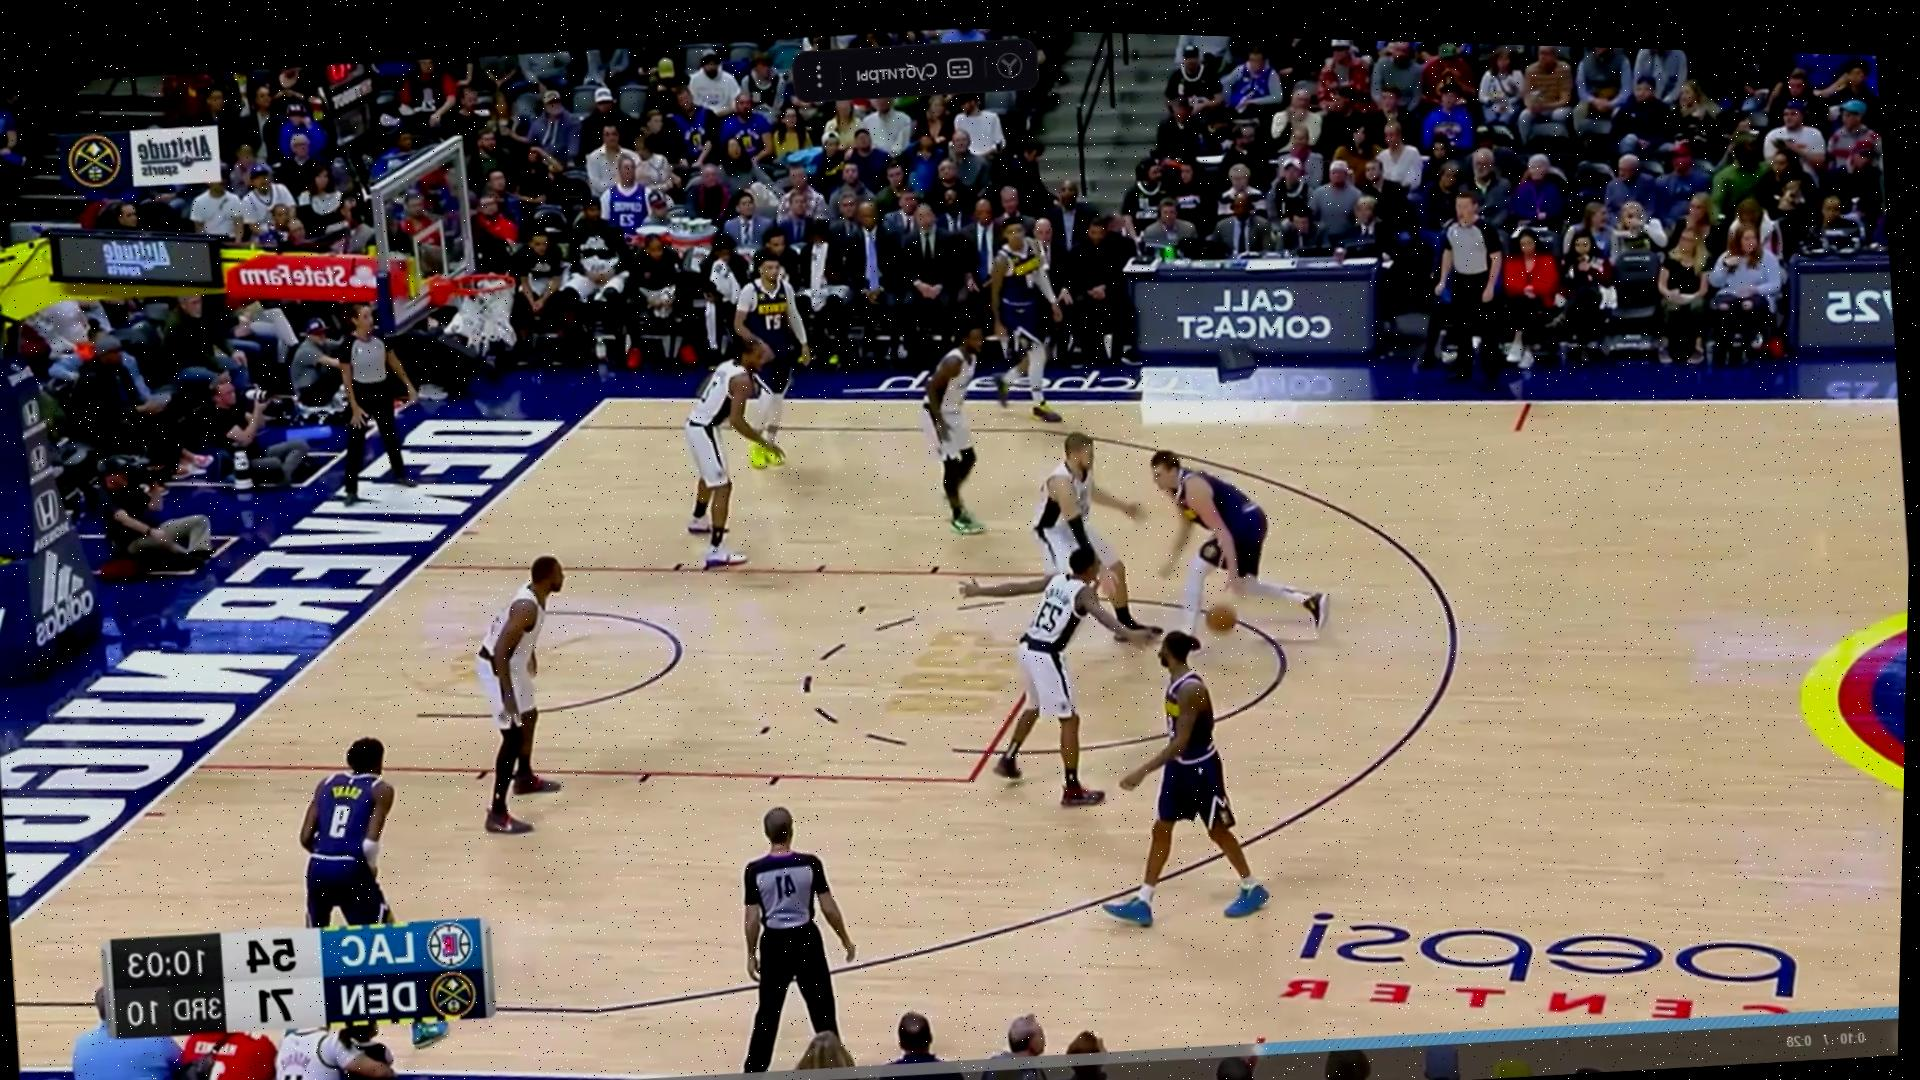no_foul: (984, 402, 1308, 662)
